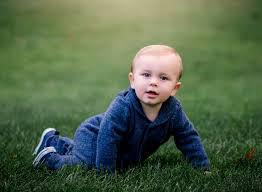child: (22, 40, 216, 181)
